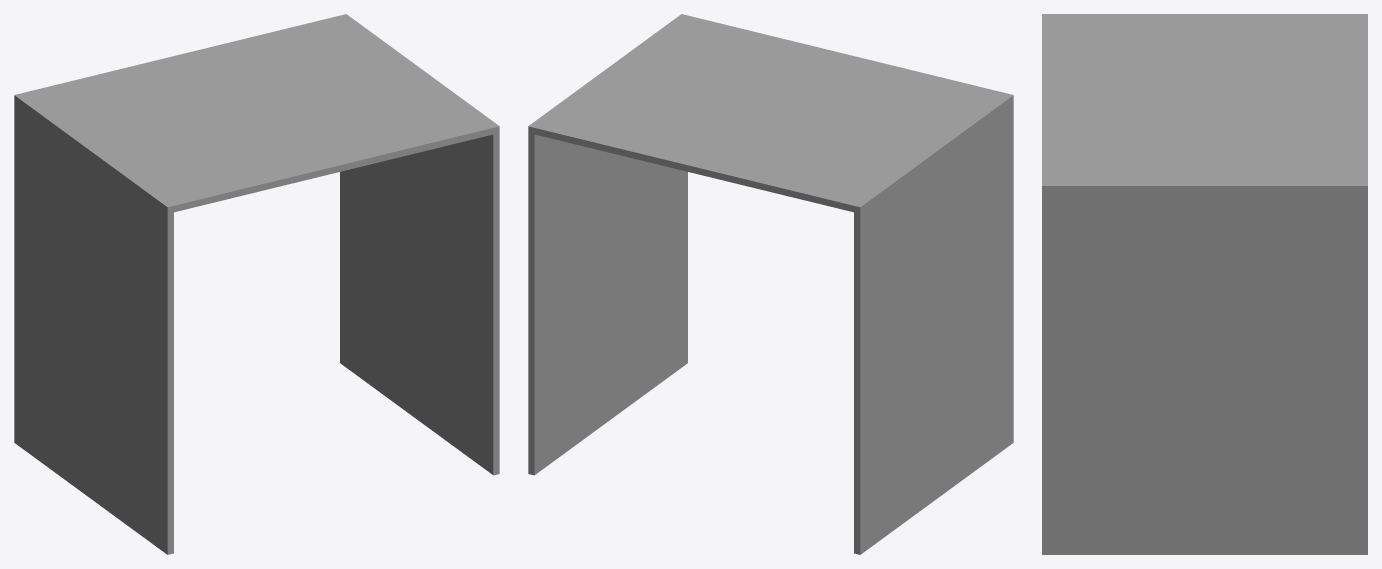
File: meuble_68fa1f0fe5750.glb
3 views of the same model, side by side, from view 1: azimuth 30°, elevation 25°; view 2: azimuth 150°, elevation 25°; view 3: azimuth 270°, elevation 25° (orthographic). The views are drawn at different scales.
Visible parts, largest first — view 1: world; view 2: world; view 3: world.
Boxes of the visible parts, x1=… form: world: x1=14, y1=14, x2=499, y2=554; world: x1=528, y1=14, x2=1013, y2=554; world: x1=1042, y1=14, x2=1367, y2=554.
Size of the model in its own units: 1 by 1 by 0.8.
Materials: 1 (1 with a texture image).
